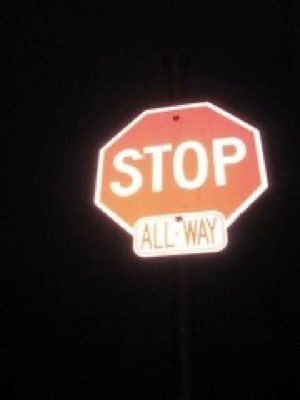StopSign: (89, 98, 270, 240)
